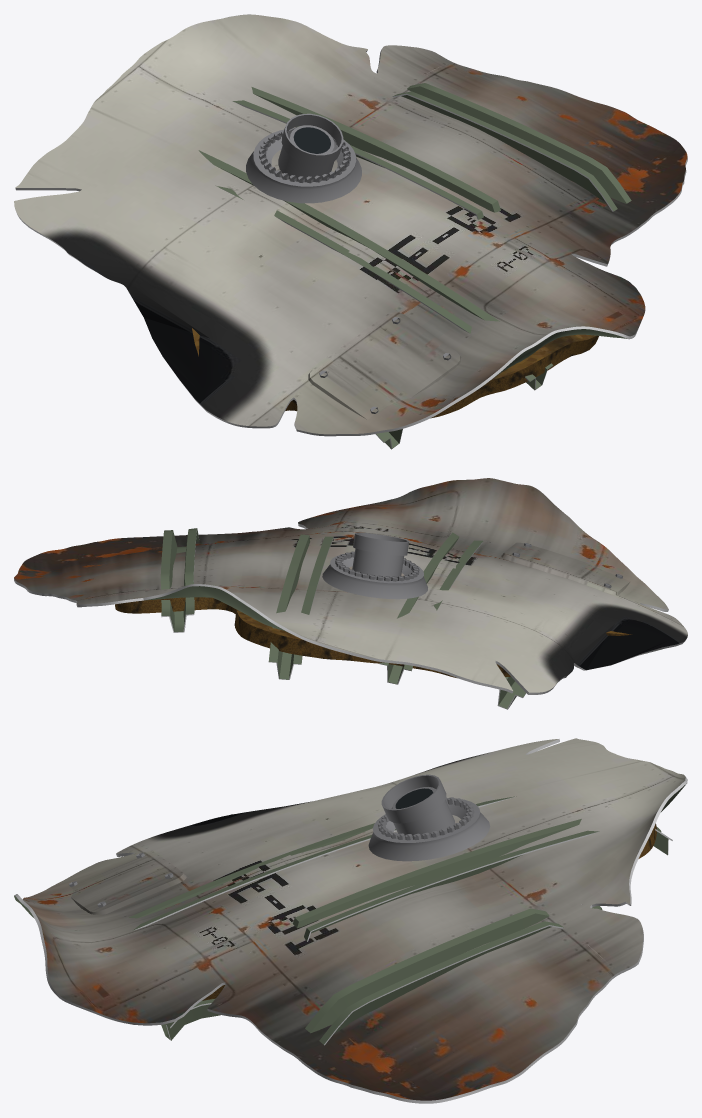
File: capsule_upper_shell_fragment.glb
The picture shows the model from 3 angles, top to bottom: view 1: azimuth 30°, elevation 25°; view 2: azimuth 150°, elevation 25°; view 3: azimuth 270°, elevation 25°; orthographic projection. The views are drawn at different scales.
Parts seen in each view (by area): view 1: capsule_upper_shell_fragment; view 2: capsule_upper_shell_fragment; view 3: capsule_upper_shell_fragment.
Part boxes in pixels (bbox=[...]): capsule_upper_shell_fragment: bbox=[14, 14, 687, 449]; capsule_upper_shell_fragment: bbox=[14, 478, 687, 709]; capsule_upper_shell_fragment: bbox=[14, 738, 687, 1103].
Bounding box in the file's own units: 1.18 × 0.3656 × 1.06.
6 materials, 2 textured.
